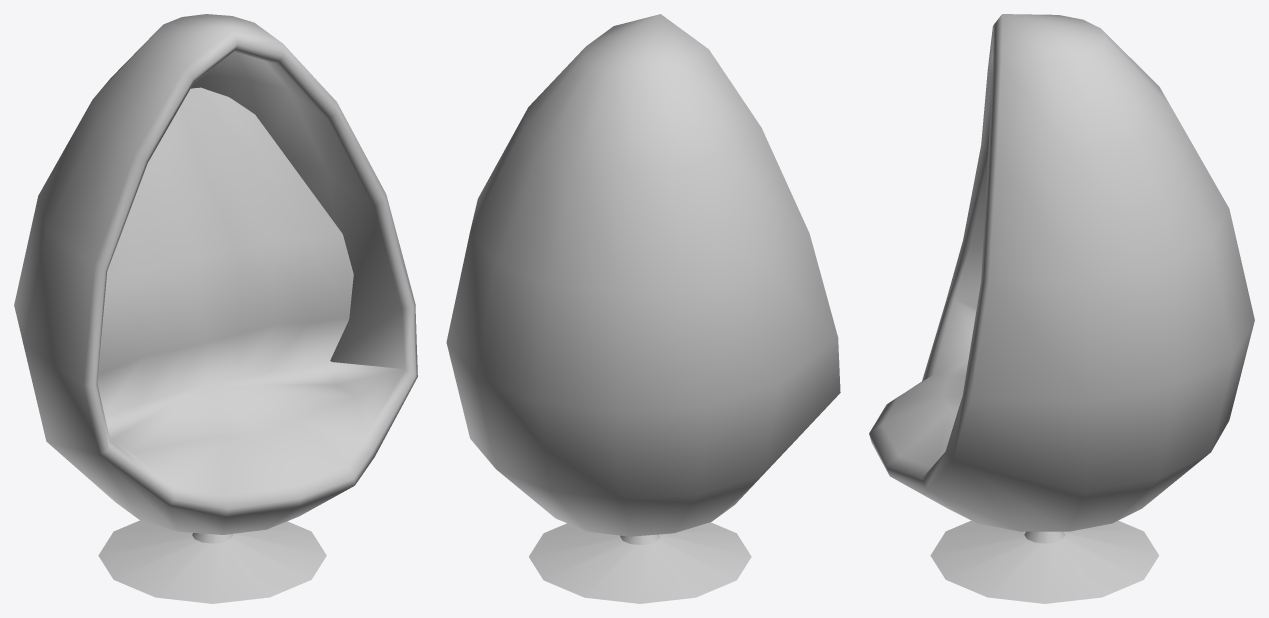
Rendered from Eggchair_A_10.FBX.
The picture shows the model from 3 angles, left to right: view 1: azimuth 30°, elevation 25°; view 2: azimuth 150°, elevation 25°; view 3: azimuth 270°, elevation 25°; orthographic projection. The views are drawn at different scales.
Parts seen in each view (by area): view 1: Egg_chair; view 2: Egg_chair; view 3: Egg_chair.
Part boxes in pixels (x1,y1,x2,y2): Egg_chair: (14, 14, 417, 603); Egg_chair: (446, 14, 840, 603); Egg_chair: (869, 14, 1254, 603).
Size of the model in its own units: 168 by 261 by 169.
